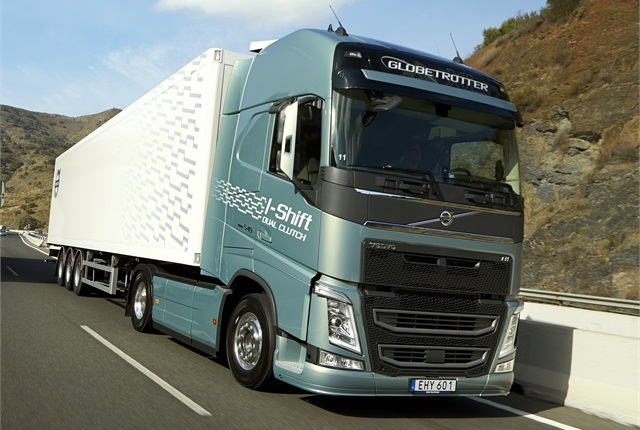truck: (42, 26, 521, 399)
